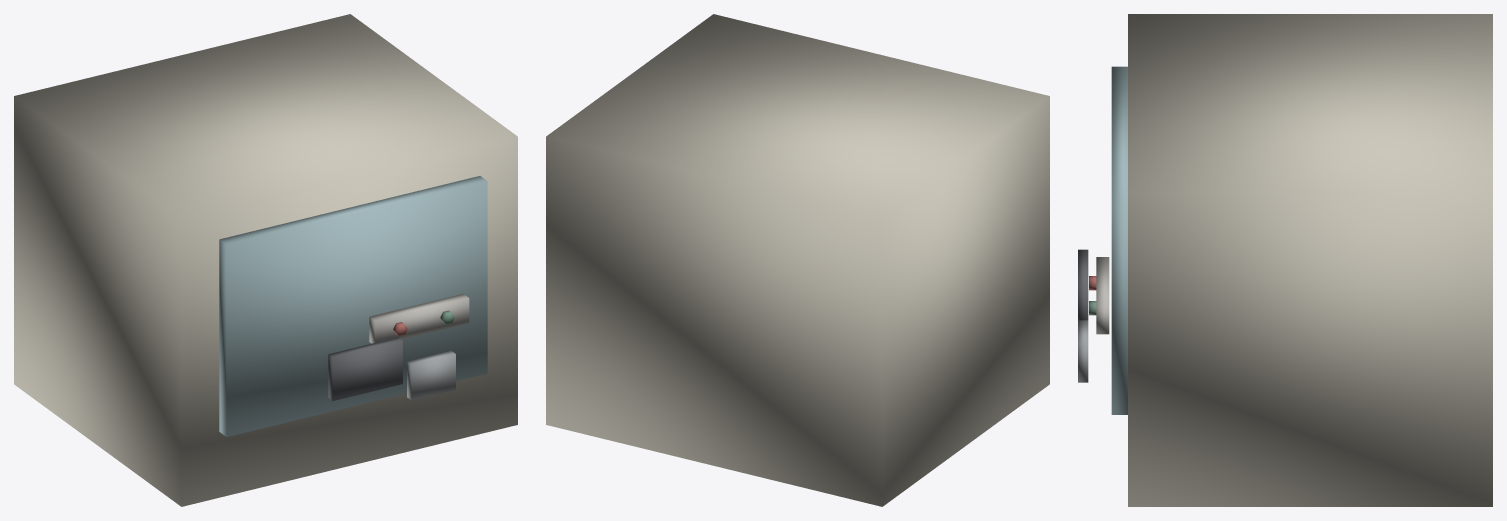
The model's file is crt_monitor__weathered.glb.
The picture shows the model from 3 angles, left to right: view 1: azimuth 30°, elevation 25°; view 2: azimuth 150°, elevation 25°; view 3: azimuth 270°, elevation 25°; orthographic projection. The views are drawn at different scales.
Parts seen in each view (by area): view 1: world; view 2: world; view 3: world.
Part boxes in pixels (x1,y1,x2,y2): world: [14, 14, 517, 506]; world: [546, 14, 1049, 506]; world: [1078, 14, 1492, 506].
Size of the model in its own units: 0.58 by 0.5148 by 0.5684.
